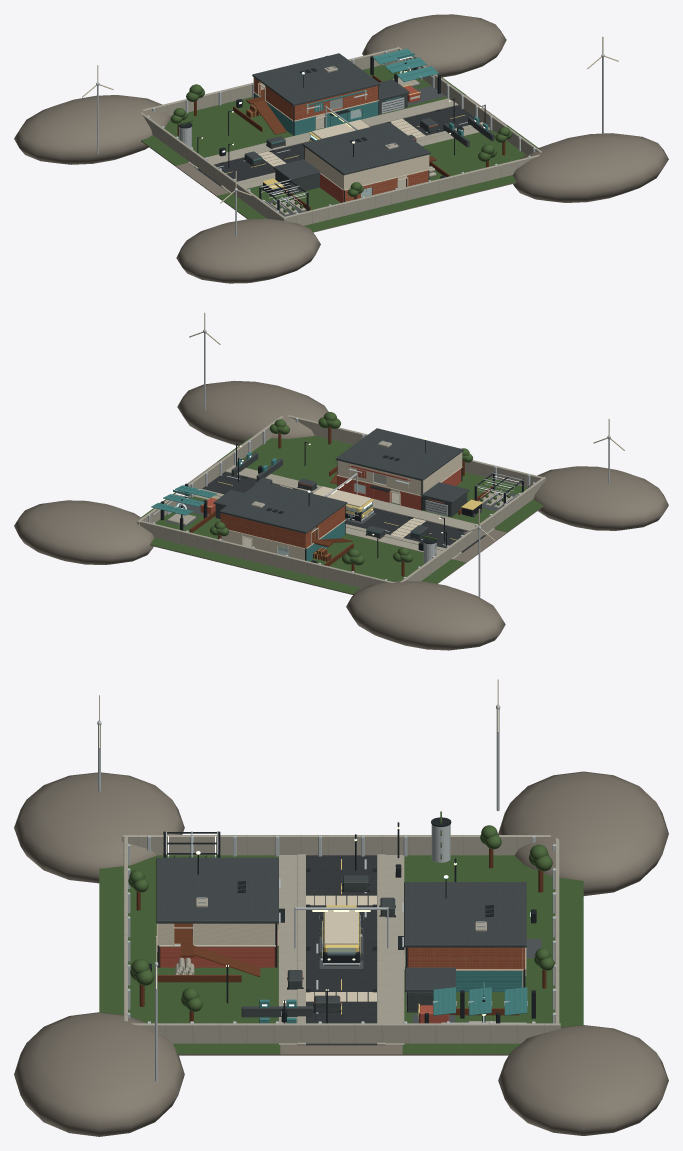
Rendered from atomic-acres-blender-arena.glb.
3 views of the same model, one above another, from view 1: azimuth 30°, elevation 25°; view 2: azimuth 150°, elevation 25°; view 3: azimuth 270°, elevation 25° (orthographic). The views are drawn at different scales.
Visible parts, largest first — view 1: BLD_BATCH_MAT_earth_edge, BLD_BATCH_MAT_ground_olive, BLD_BATCH_MAT_boundary_warm_concrete, BLD_BATCH_MAT_roof_shingles, BLD_BATCH_MAT_concrete_weathered, BLD_BATCH_MAT_aqua_oxidized, BLD_BATCH_MAT_asphalt_charcoal, BLD_BATCH_MAT_brushed_alloy, BLD_BATCH_MAT_trim_bone, BLD_BATCH_MAT_coral_upper_plaster, BLD_BATCH_MAT_concrete_dark, BLD_BATCH_MAT_aqua_upper_brick (+5 smaller); view 2: BLD_BATCH_MAT_earth_edge, BLD_BATCH_MAT_ground_olive, BLD_BATCH_MAT_boundary_warm_concrete, BLD_BATCH_MAT_roof_shingles, BLD_BATCH_MAT_concrete_weathered, BLD_BATCH_MAT_asphalt_charcoal, BLD_BATCH_MAT_brushed_alloy, BLD_BATCH_MAT_trim_bone, BLD_BATCH_MAT_aqua_upper_brick, BLD_BATCH_MAT_gunmetal, BLD_BATCH_MAT_coral_upper_plaster, BLD_BATCH_MAT_foliage_military (+6 smaller); view 3: BLD_BATCH_MAT_earth_edge, BLD_BATCH_MAT_ground_olive, BLD_BATCH_MAT_roof_shingles, BLD_BATCH_MAT_boundary_warm_concrete, BLD_BATCH_MAT_concrete_weathered, BLD_BATCH_MAT_asphalt_charcoal, BLD_BATCH_MAT_brushed_alloy, BLD_BATCH_MAT_aqua_oxidized, BLD_BATCH_MAT_trim_bone, BLD_BATCH_MAT_gunmetal, BLD_BATCH_MAT_aqua_upper_brick, BLD_BATCH_MAT_concrete_dark (+5 smaller).
Part boxes in pixels (bbox=[...]): BLD_BATCH_MAT_earth_edge: bbox=[14, 14, 668, 283]; BLD_BATCH_MAT_ground_olive: bbox=[141, 64, 538, 231]; BLD_BATCH_MAT_boundary_warm_concrete: bbox=[141, 46, 541, 225]; BLD_BATCH_MAT_roof_shingles: bbox=[252, 53, 430, 180]; BLD_BATCH_MAT_concrete_weathered: bbox=[187, 98, 489, 215]; BLD_BATCH_MAT_aqua_oxidized: bbox=[253, 48, 488, 160]; BLD_BATCH_MAT_asphalt_charcoal: bbox=[197, 105, 480, 186]; BLD_BATCH_MAT_brushed_alloy: bbox=[96, 51, 604, 235]; BLD_BATCH_MAT_trim_bone: bbox=[82, 36, 618, 203]; BLD_BATCH_MAT_coral_upper_plaster: bbox=[304, 147, 429, 189]; BLD_BATCH_MAT_concrete_dark: bbox=[244, 94, 494, 193]; BLD_BATCH_MAT_aqua_upper_brick: bbox=[253, 77, 378, 120]; BLD_BATCH_MAT_earth_edge: bbox=[14, 380, 668, 650]; BLD_BATCH_MAT_ground_olive: bbox=[141, 435, 543, 594]; BLD_BATCH_MAT_boundary_warm_concrete: bbox=[137, 415, 545, 588]; BLD_BATCH_MAT_roof_shingles: bbox=[213, 428, 469, 533]; BLD_BATCH_MAT_concrete_weathered: bbox=[194, 465, 512, 559]; BLD_BATCH_MAT_asphalt_charcoal: bbox=[202, 472, 485, 552]; BLD_BATCH_MAT_brushed_alloy: bbox=[147, 330, 610, 597]; BLD_BATCH_MAT_trim_bone: bbox=[189, 312, 624, 551]; BLD_BATCH_MAT_aqua_upper_brick: bbox=[220, 506, 344, 548]; BLD_BATCH_MAT_gunmetal: bbox=[160, 440, 523, 563]; BLD_BATCH_MAT_coral_upper_plaster: bbox=[337, 452, 462, 494]; BLD_BATCH_MAT_foliage_military: bbox=[209, 412, 516, 565]; BLD_BATCH_MAT_earth_edge: bbox=[14, 771, 668, 1136]; BLD_BATCH_MAT_ground_olive: bbox=[99, 855, 583, 1054]; BLD_BATCH_MAT_roof_shingles: bbox=[156, 857, 526, 992]; BLD_BATCH_MAT_boundary_warm_concrete: bbox=[122, 835, 560, 1043]; BLD_BATCH_MAT_concrete_weathered: bbox=[175, 854, 404, 1045]; BLD_BATCH_MAT_asphalt_charcoal: bbox=[306, 855, 376, 1045]; BLD_BATCH_MAT_brushed_alloy: bbox=[97, 705, 556, 1082]; BLD_BATCH_MAT_aqua_oxidized: bbox=[259, 877, 527, 1023]; BLD_BATCH_MAT_trim_bone: bbox=[99, 679, 526, 1018]; BLD_BATCH_MAT_gunmetal: bbox=[148, 817, 536, 1023]; BLD_BATCH_MAT_aqua_upper_brick: bbox=[407, 947, 525, 969]; BLD_BATCH_MAT_concrete_dark: bbox=[241, 875, 433, 1017].
Bounding box in the file's own units: 116 × 30.15 × 92.
29 materials, 20 textured.
